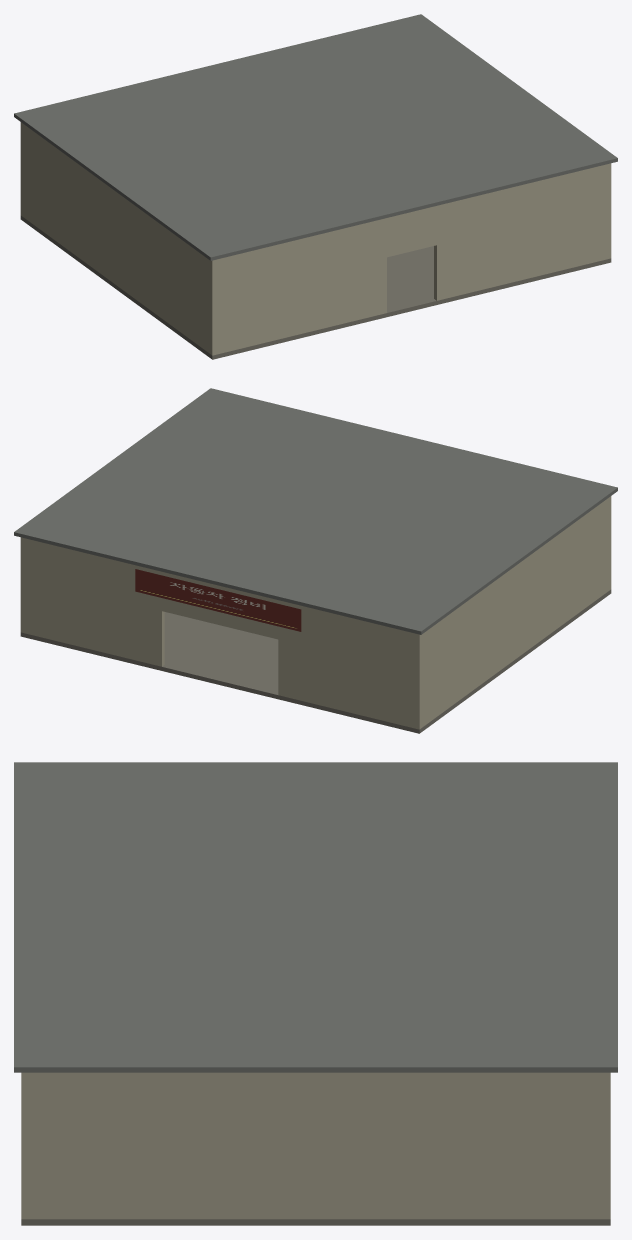
The model's file is auto_workshop.obj.
3 views of the same model, one above another, from view 1: azimuth 30°, elevation 25°; view 2: azimuth 150°, elevation 25°; view 3: azimuth 270°, elevation 25° (orthographic). The views are drawn at different scales.
Visible parts, largest first — view 1: Concrete, Warm_Plaster, Interior_Floor; view 2: Concrete, Warm_Plaster, Interior_Floor, Sign_Atlas; view 3: Concrete, Warm_Plaster, Interior_Floor.
Boxes of the visible parts, x1,y1,x2,y2 form: Concrete: (14, 14, 617, 260); Warm_Plaster: (20, 122, 611, 355); Interior_Floor: (20, 215, 611, 359); Concrete: (14, 388, 617, 634); Warm_Plaster: (20, 496, 611, 729); Interior_Floor: (20, 589, 611, 733); Sign_Atlas: (135, 569, 301, 631); Concrete: (14, 762, 617, 1072); Warm_Plaster: (21, 1072, 610, 1219); Interior_Floor: (21, 1219, 610, 1225).
Bounding box in the file's own units: 24.5 × 6.04 × 20.5.
